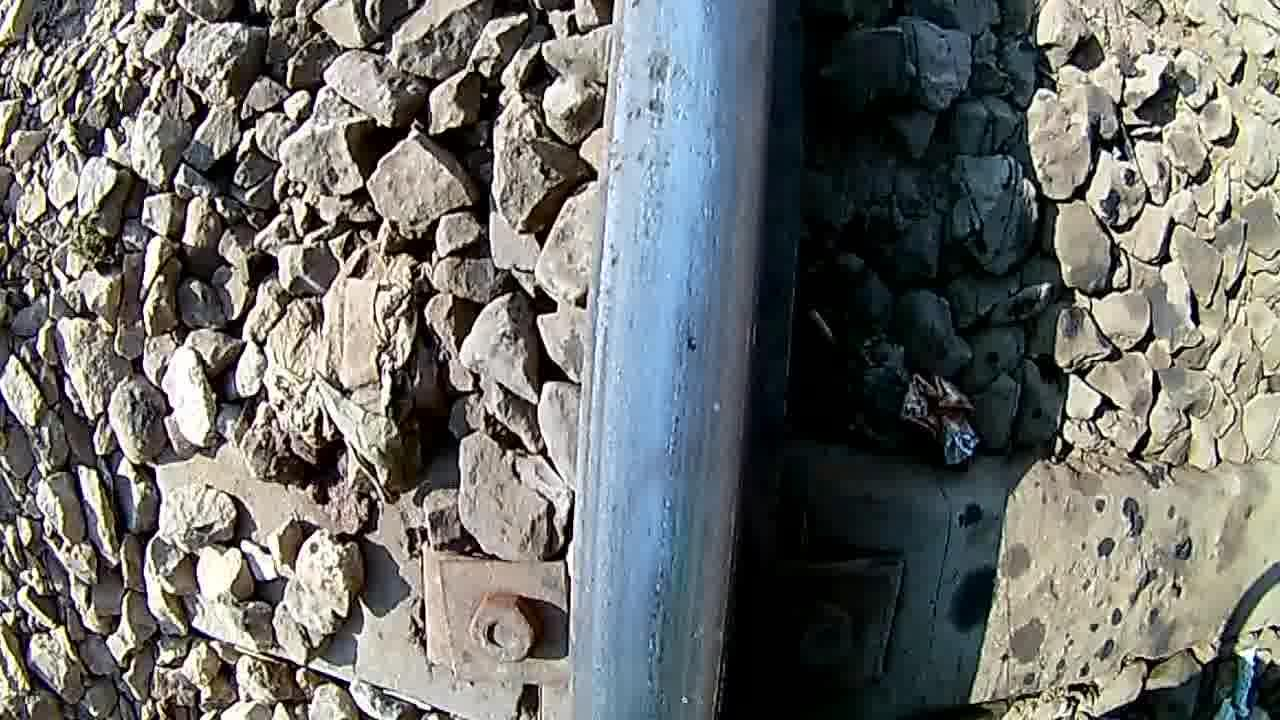crack: (584, 0, 770, 720)
